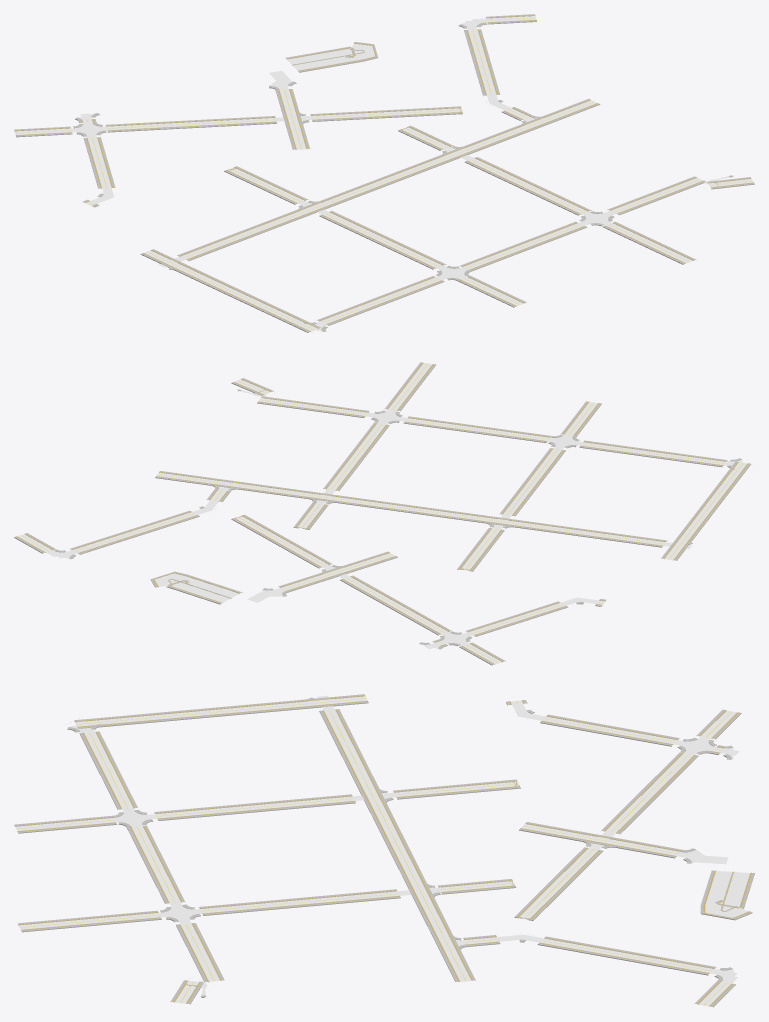
File: roads_2_0.gltf
3 renders of one model, top to bottom at view 1: azimuth 30°, elevation 25°; view 2: azimuth 150°, elevation 25°; view 3: azimuth 270°, elevation 25°, orthographic. The views are drawn at different scales.
Parts seen in each view (by area): view 1: roads_2_0_SH_wet_asphalt, roads_2_0_SH_sidewalk, roads_2_0_Road_Tactile_Strip, roads_2_0_SH_kerb, roads_2_0_SH_road_marking_yellow, roads_2_0_SH_road_marking_white; view 2: roads_2_0_SH_wet_asphalt, roads_2_0_SH_sidewalk, roads_2_0_Road_Tactile_Strip, roads_2_0_SH_kerb, roads_2_0_SH_road_marking_yellow, roads_2_0_SH_road_marking_white; view 3: roads_2_0_SH_wet_asphalt, roads_2_0_SH_sidewalk, roads_2_0_Road_Tactile_Strip, roads_2_0_SH_kerb, roads_2_0_SH_road_marking_white, roads_2_0_SH_road_marking_yellow.
Boxes of the visible parts, left/top/right/bottom form: roads_2_0_SH_wet_asphalt: left=14, top=16, right=753, bottom=331; roads_2_0_SH_sidewalk: left=14, top=14, right=754, bottom=332; roads_2_0_Road_Tactile_Strip: left=14, top=15, right=753, bottom=331; roads_2_0_SH_kerb: left=14, top=15, right=751, bottom=331; roads_2_0_SH_road_marking_yellow: left=16, top=18, right=752, bottom=330; roads_2_0_SH_road_marking_white: left=19, top=16, right=748, bottom=333; roads_2_0_SH_wet_asphalt: left=17, top=363, right=747, bottom=664; roads_2_0_SH_sidewalk: left=14, top=362, right=750, bottom=665; roads_2_0_Road_Tactile_Strip: left=16, top=363, right=748, bottom=664; roads_2_0_SH_kerb: left=17, top=363, right=747, bottom=664; roads_2_0_SH_road_marking_yellow: left=22, top=364, right=743, bottom=662; roads_2_0_SH_road_marking_white: left=21, top=363, right=754, bottom=661; roads_2_0_SH_wet_asphalt: left=15, top=695, right=749, bottom=1006; roads_2_0_SH_sidewalk: left=14, top=694, right=754, bottom=1007; roads_2_0_Road_Tactile_Strip: left=15, top=695, right=751, bottom=1006; roads_2_0_SH_kerb: left=15, top=696, right=750, bottom=1006; roads_2_0_SH_road_marking_white: left=15, top=696, right=749, bottom=1006; roads_2_0_SH_road_marking_yellow: left=17, top=698, right=734, bottom=1005.
Size of what is drawn, in the model's own units: 528 by 0.506 by 528.
